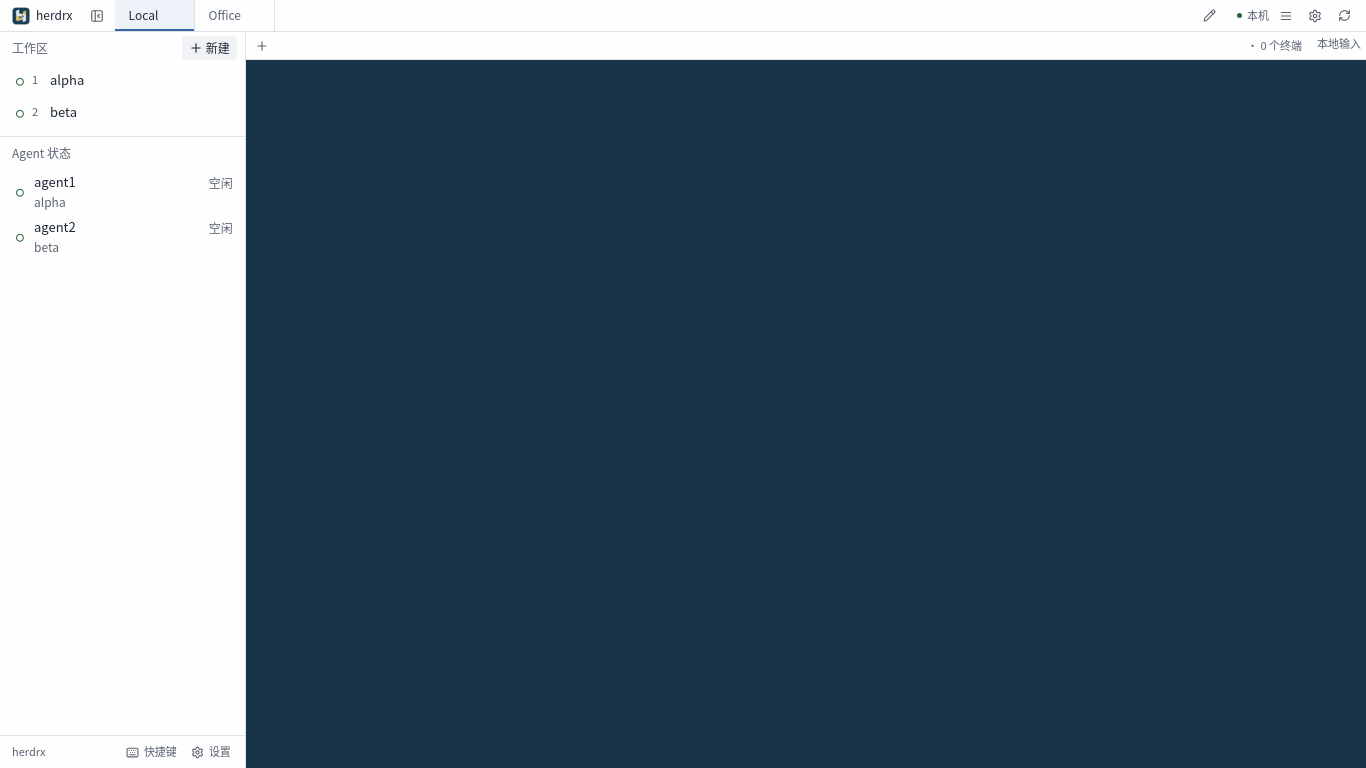
Test: workbench sidebar context menus › renames the current host from the top navigation
Click the button named "重命名当前主机": click(1209, 16) left=1197, top=4, right=1221, bottom=28
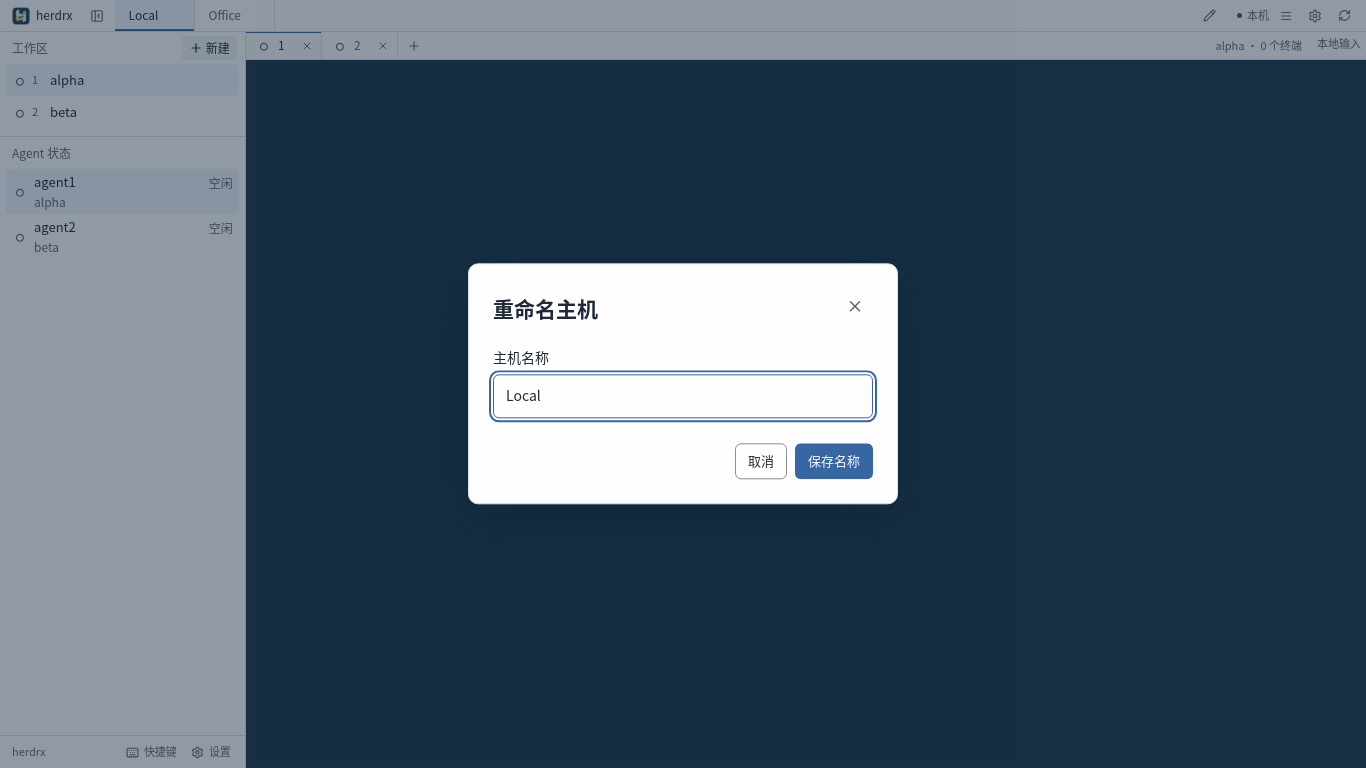
Replace the text in the field labelled "主机名称" with "Home workstation": (683, 396) left=493, top=374, right=873, bottom=418
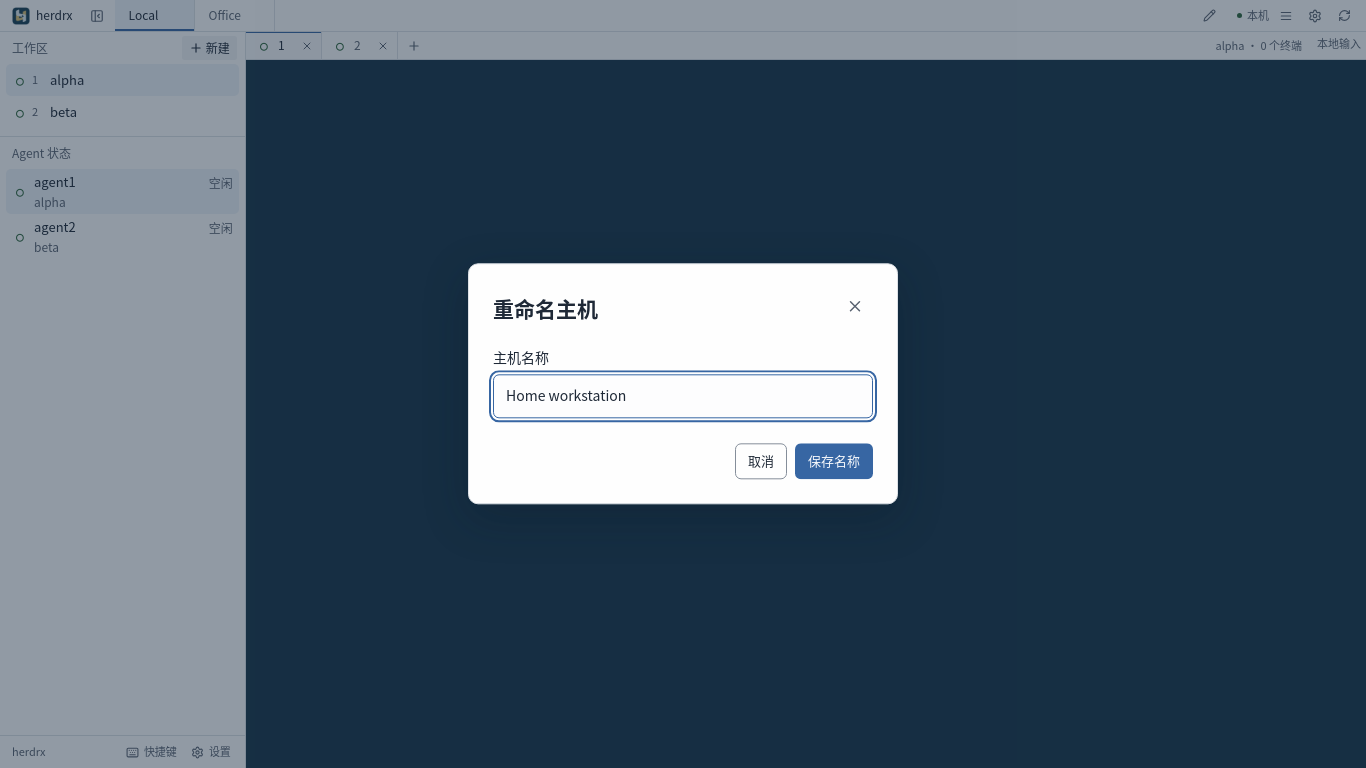
Click the button "保存名称": click(834, 462) left=795, top=444, right=873, bottom=480
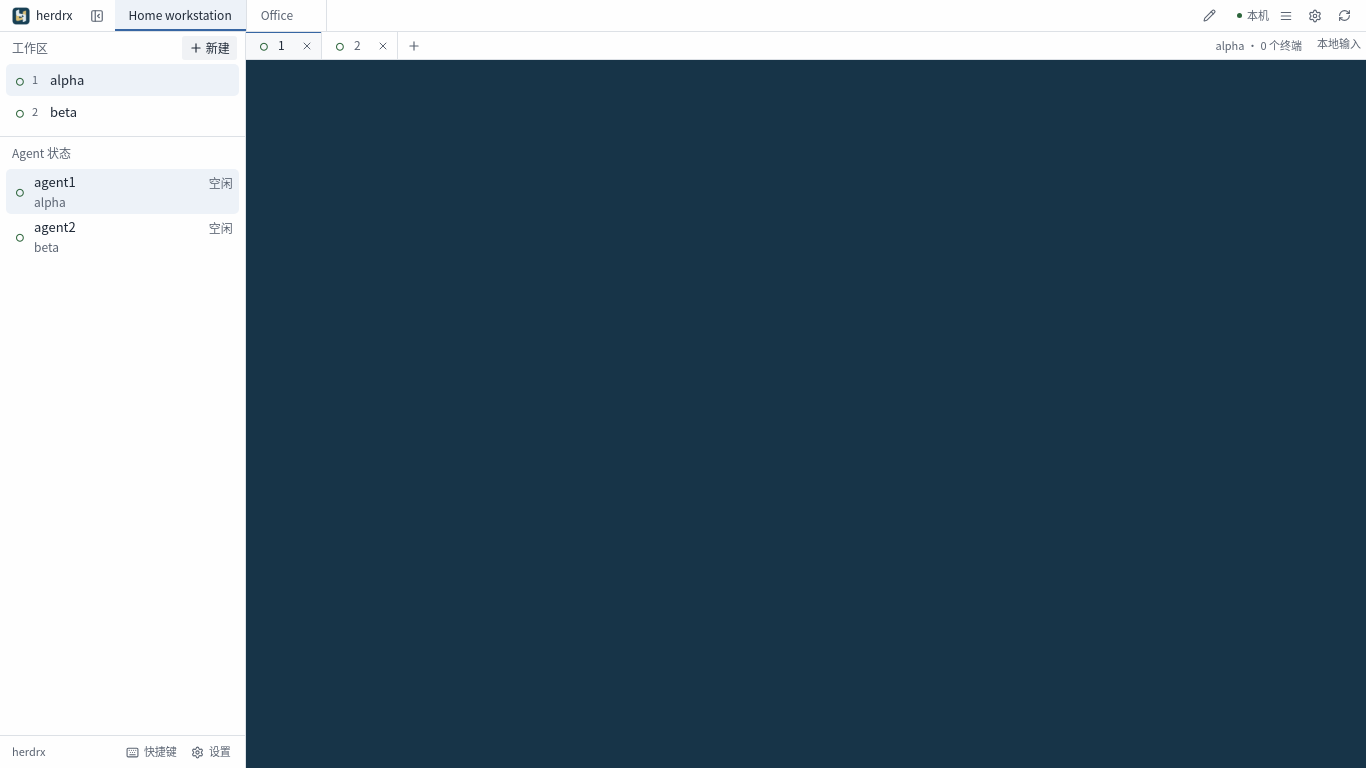
Now the link "Home workstation" is shown, box left=114, top=0, right=247, bottom=31
